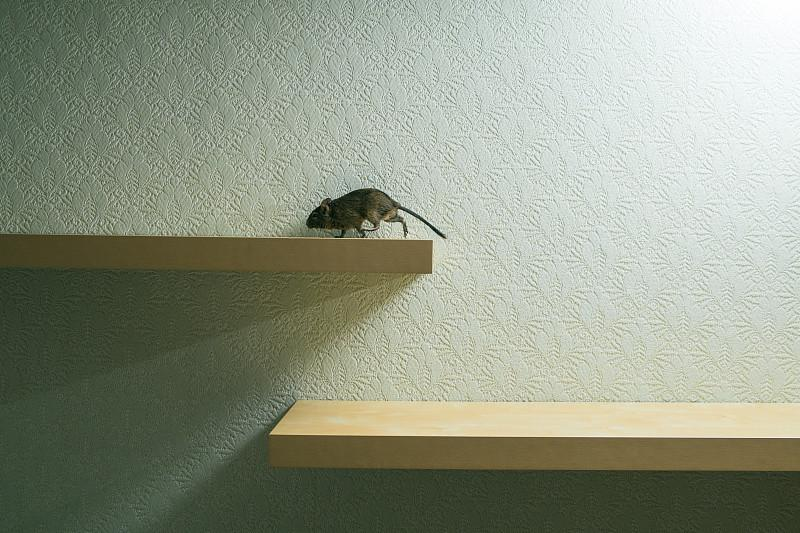rat: (301, 182, 426, 238)
